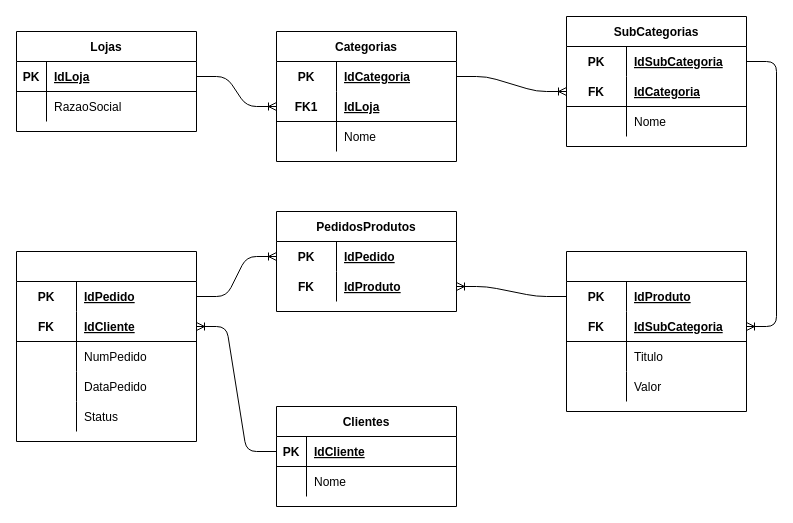
The diagram is 793 pixels wide and 523 high, and some of its shapes have lost their labels. The shapes that lost their labels are listed below. From the top down, each one's box as (x1, y1, x2, y2) in pixels, then its label:
(16, 250, 196, 442): Pedidos
(566, 250, 746, 412): Produtos
